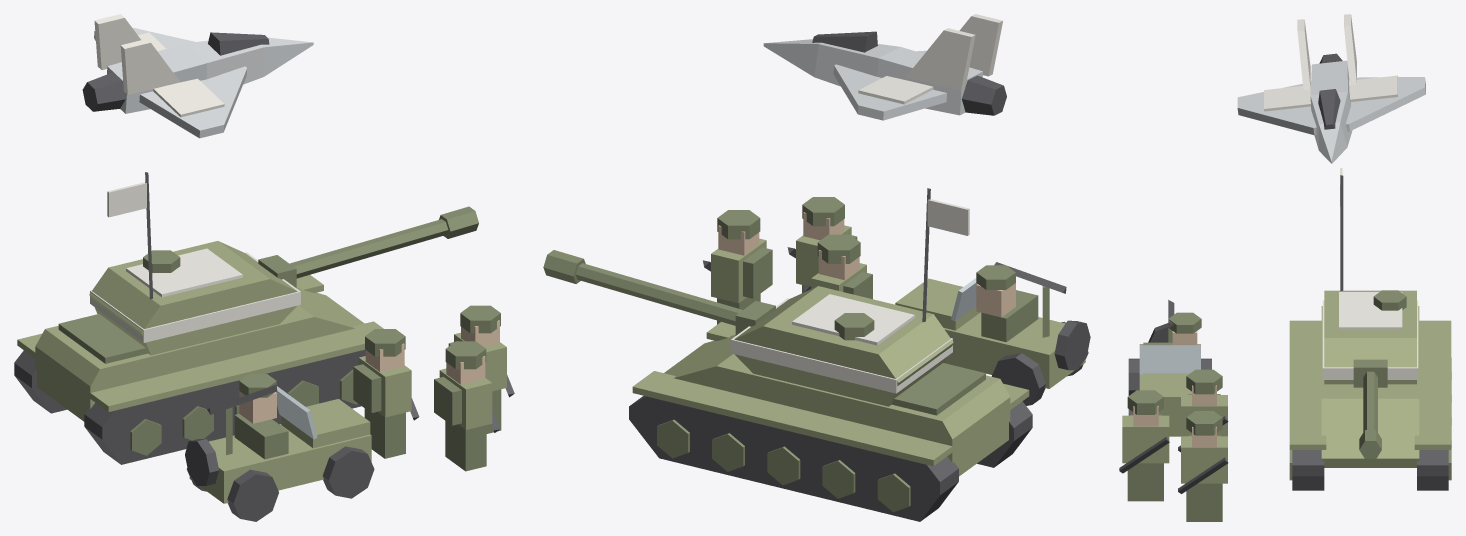
The model's file is army.glb.
The picture shows the model from 3 angles, left to right: view 1: azimuth 30°, elevation 25°; view 2: azimuth 150°, elevation 25°; view 3: azimuth 270°, elevation 25°; orthographic projection. The views are drawn at different scales.
Visible parts, largest first — view 1: modern_army; view 2: modern_army; view 3: modern_army.
Part boxes in pixels (x1,y1,x2,y2): modern_army: [14, 14, 514, 521]; modern_army: [543, 14, 1090, 521]; modern_army: [1119, 14, 1451, 521].
Bounding box in the file's own units: 0.9995 × 0.9638 × 0.7808.
